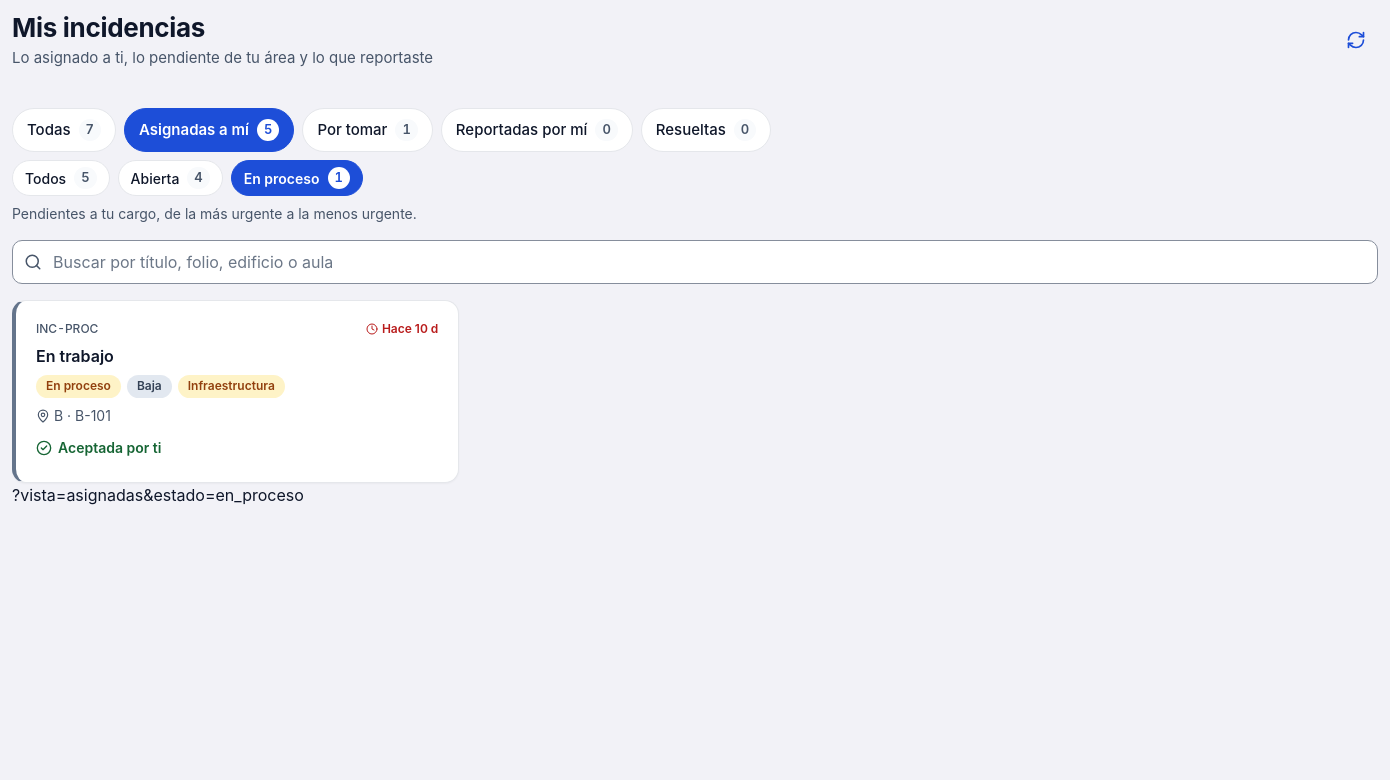
Test: Mis incidencias del técnico (T-050) › lee vista y estado de la URL y filtra por estado
Expected: the link "En trabajo" is shown, left=36, top=346, right=114, bottom=366
Expected: the text "Crítica asignada" is not shown
Click the radio button labelled "Todos 5": (61, 178) left=12, top=160, right=110, bottom=196
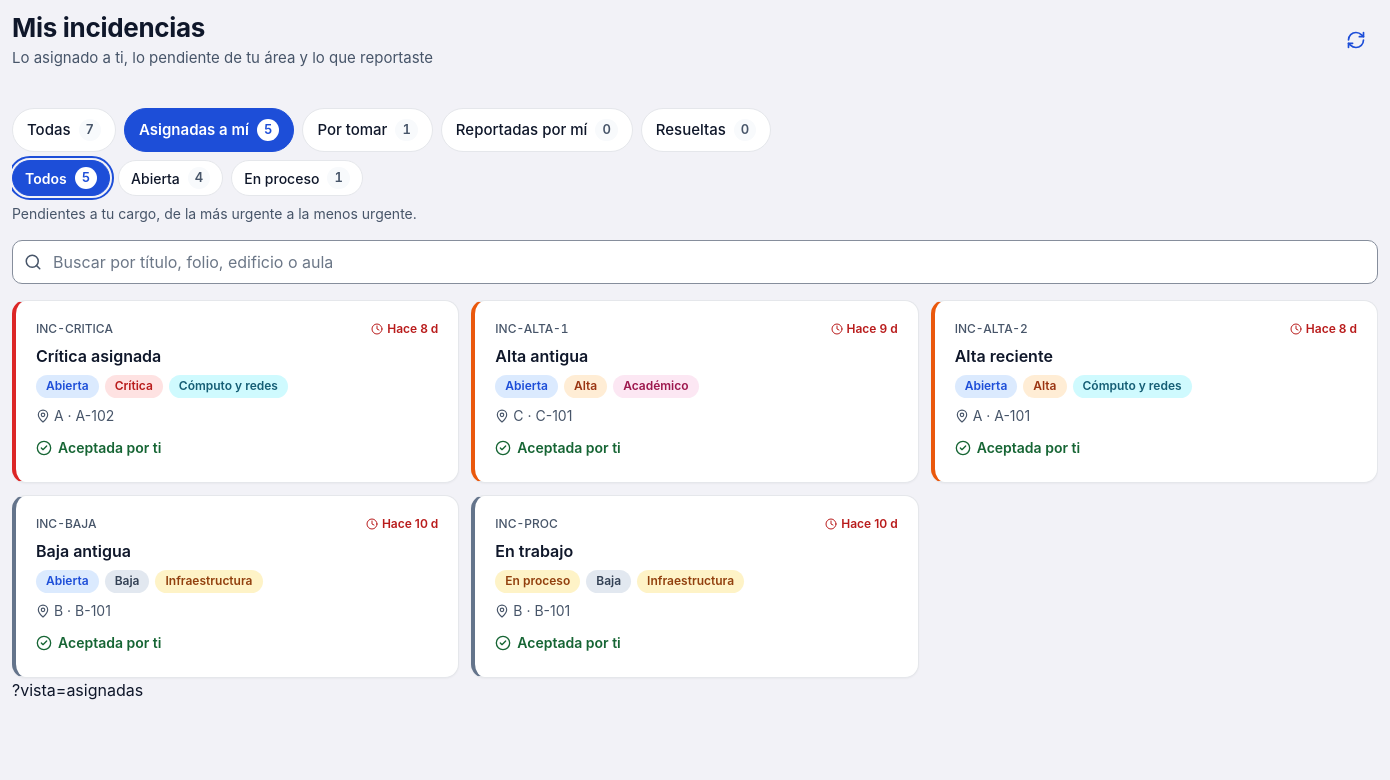
Now the link "Crítica asignada" is shown, box left=36, top=346, right=161, bottom=366
Now the text with test id "url" reads "?vista=asignadas", box left=12, top=680, right=143, bottom=700
